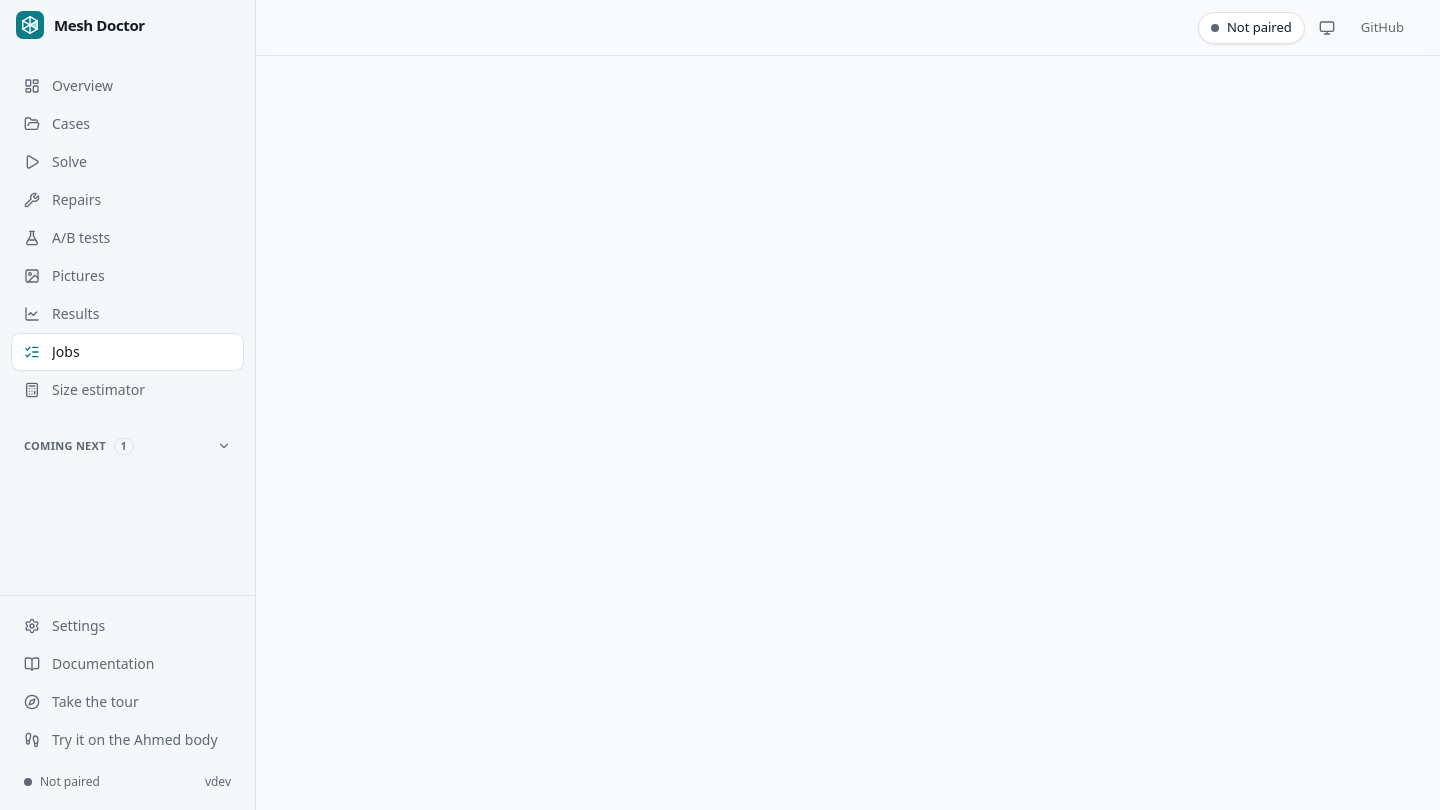
your own app's tour › before the engine lists a repair run, has an Overview step about Getting started, which the Overview opens with then
Click the button "Take the tour". click: (128,702)
box: [12,684,243,720]
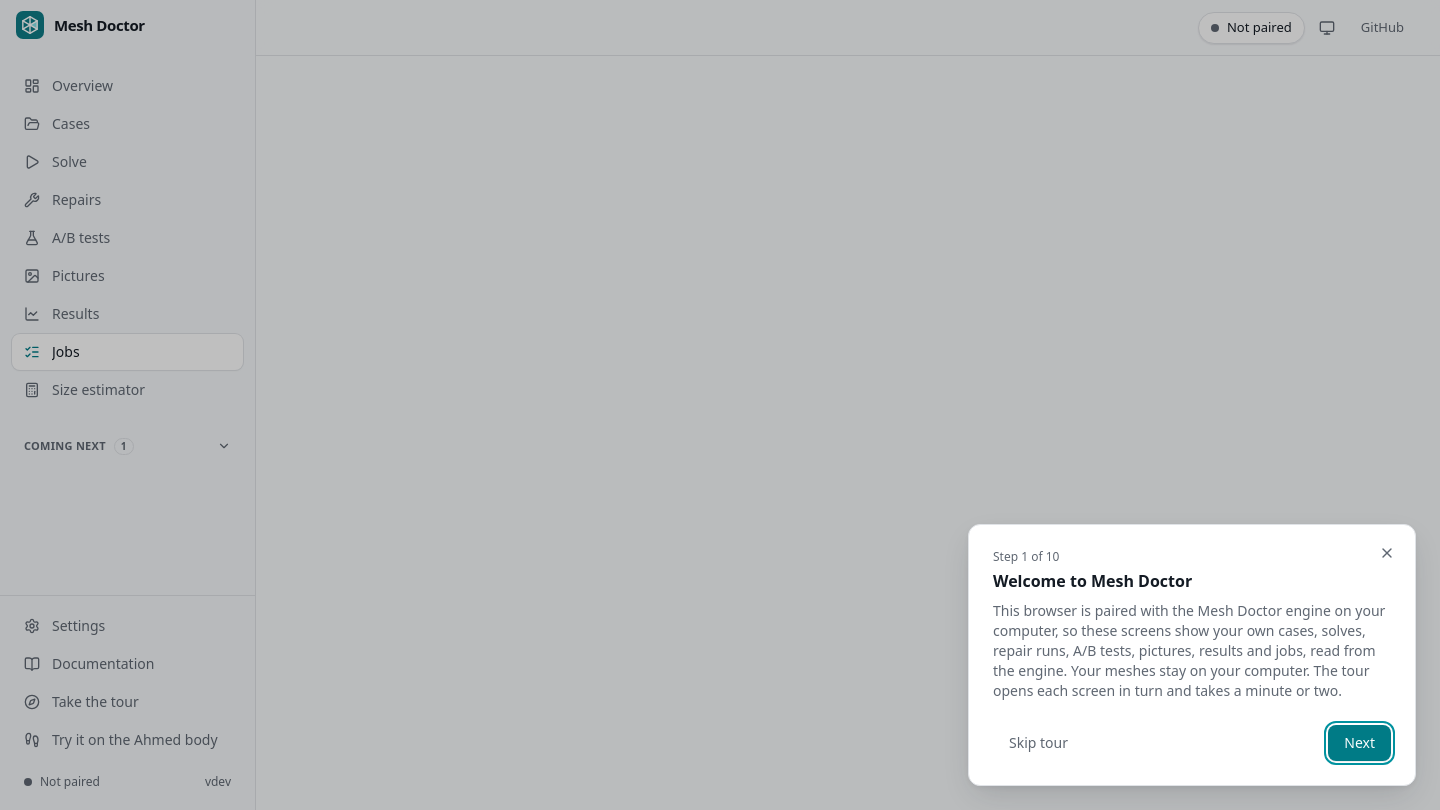
Click the button "Next". click: (1360,743)
box: [1328,725,1391,761]
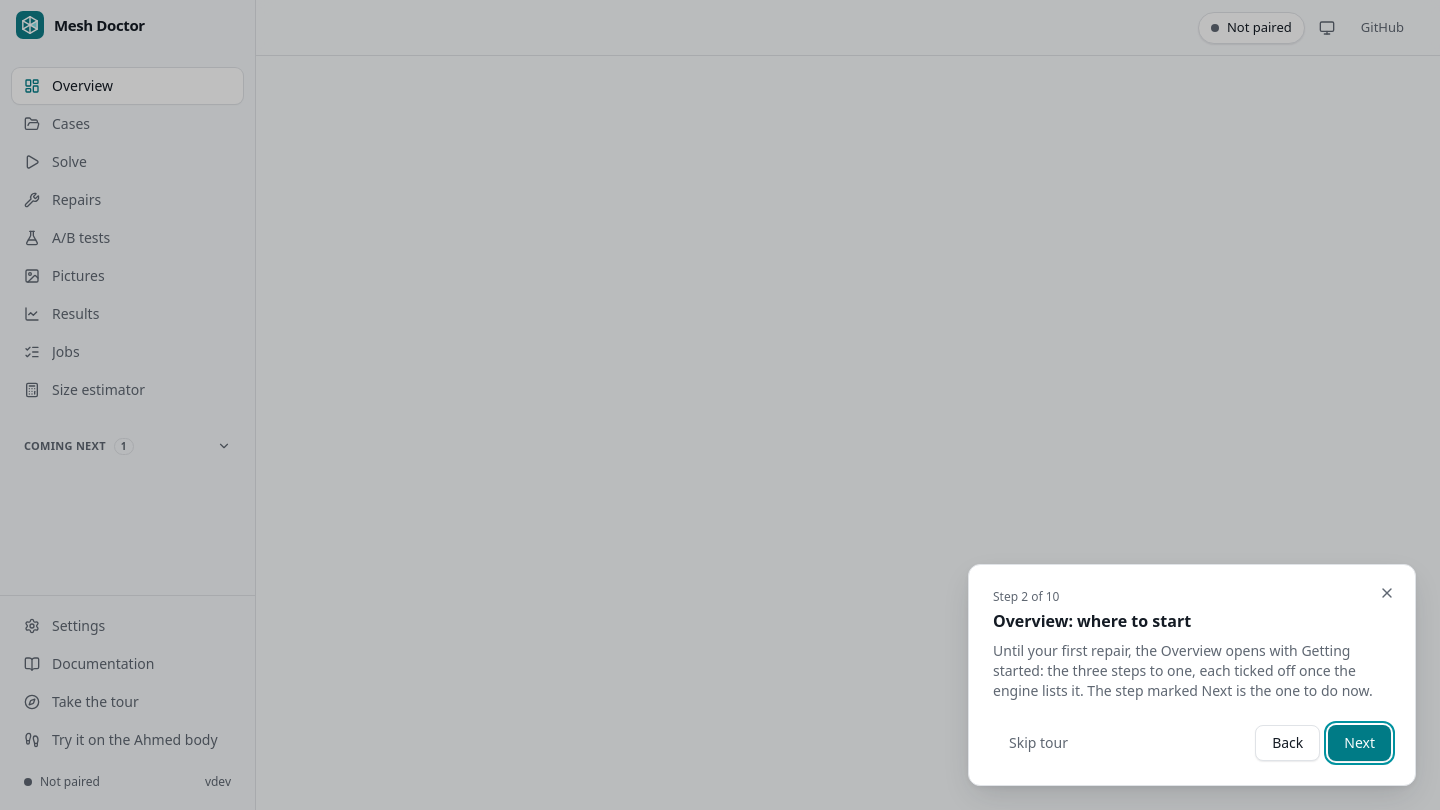
Expected: the dialog "Overview: where to start" shows "Step 2 of 10", [968,564,1416,786]
Expected: the dialog "Overview: where to start" shows "Until your first repair, the Overview opens with Getting started: the three steps to one, each ticked off once the engine lists it. The step marked Next is the", [993,641,1373,700]
